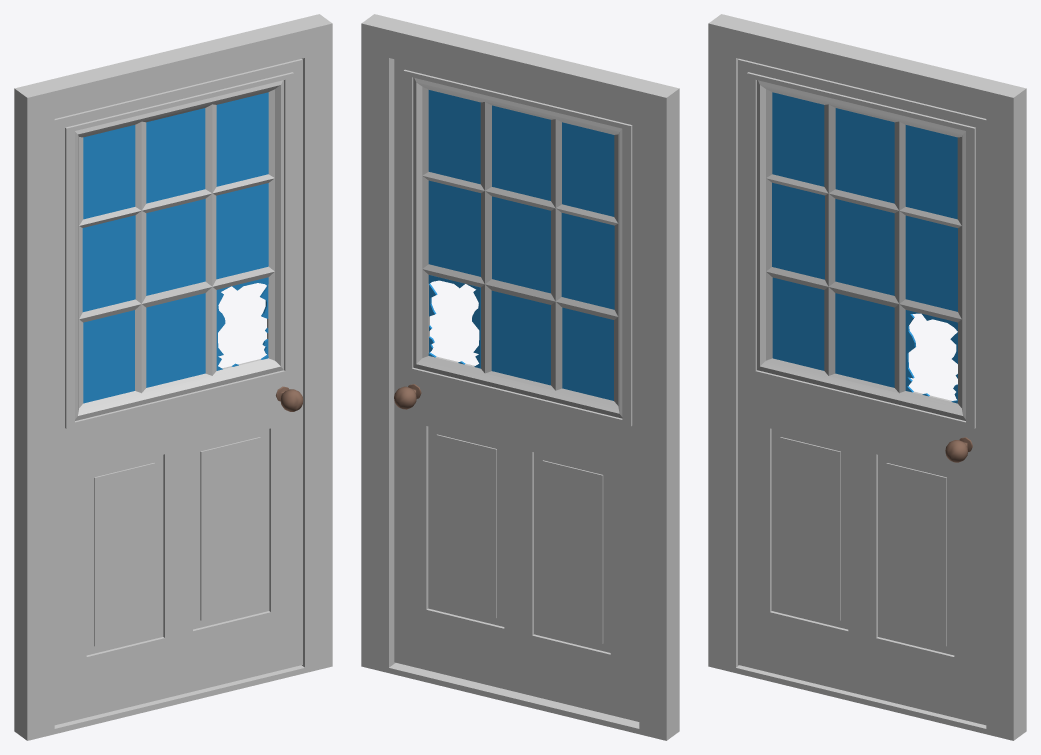
Rendered from open-the-door.glb.
3 views of the same model, side by side, from view 1: azimuth 30°, elevation 25°; view 2: azimuth 150°, elevation 25°; view 3: azimuth 330°, elevation 25° (orthographic).
Parts seen in each view (by area): view 1: door, frame; view 2: door, frame; view 3: door, frame.
Boxes of the visible parts, x1,y1,x2,y2 form: door: (54, 59, 303, 725); frame: (14, 14, 332, 740); door: (394, 59, 639, 721); frame: (361, 14, 679, 740); door: (738, 59, 986, 725); frame: (708, 14, 1026, 740).
Size of the model in its own units: 1.2 by 2.42 by 0.2546.
